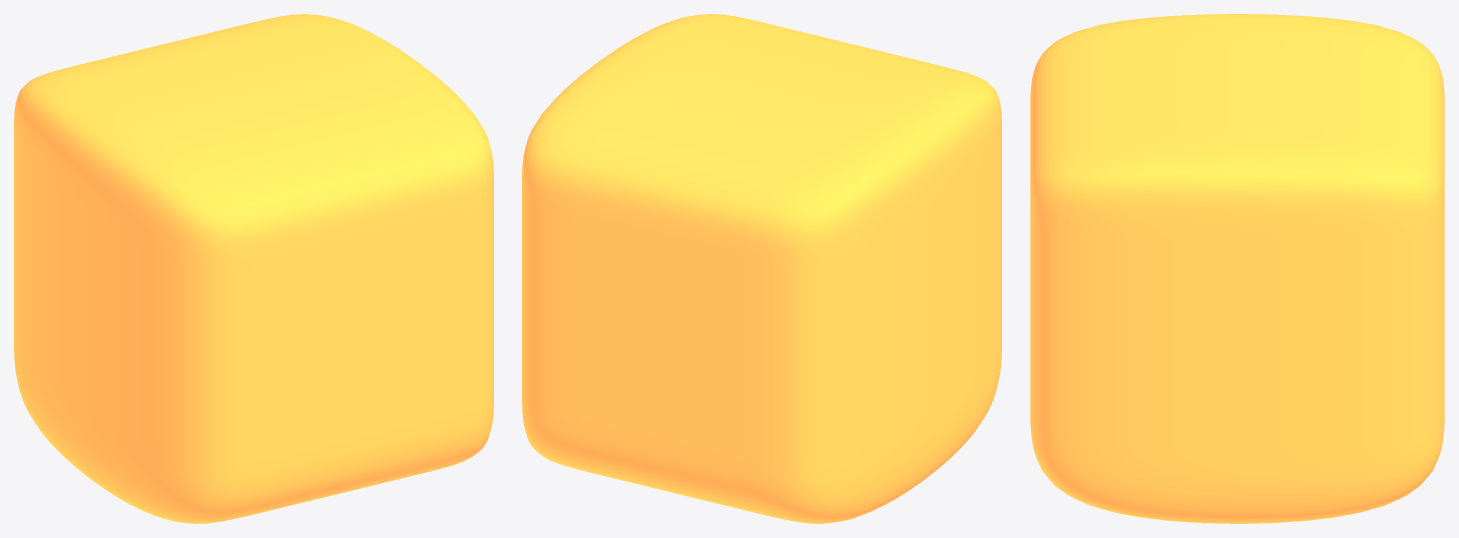
File: suger_map.fbx
3 views of the same model, side by side, from view 1: azimuth 30°, elevation 25°; view 2: azimuth 150°, elevation 25°; view 3: azimuth 270°, elevation 25° (orthographic).
Parts seen in each view (by area): view 1: Cube; view 2: Cube; view 3: Cube.
Part boxes in pixels (<box>): Cube: <box>14,14,493,523</box>; Cube: <box>522,14,1001,523</box>; Cube: <box>1030,14,1444,523</box>.
Bounding box in the file's own units: 196 × 197 × 200.
